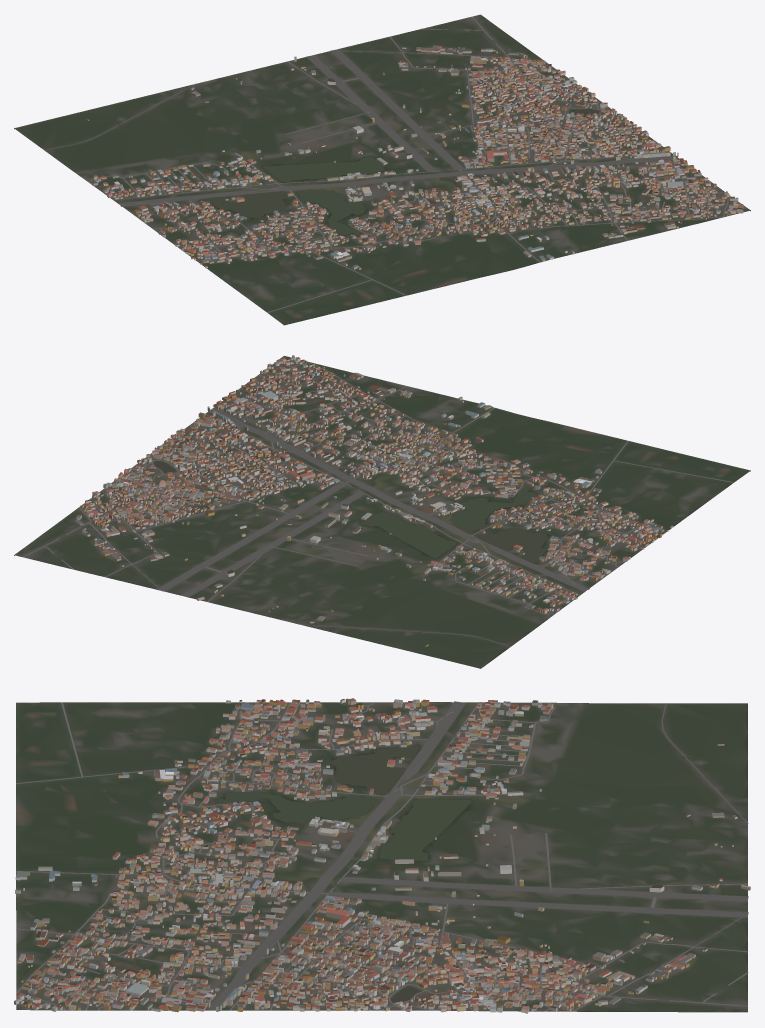
3 views of the same model, one above another, from view 1: azimuth 30°, elevation 25°; view 2: azimuth 150°, elevation 25°; view 3: azimuth 270°, elevation 25° (orthographic). The views are drawn at different scales.
Visible parts, largest first — view 1: ground, buildings, roads, water; view 2: ground, buildings, roads, water; view 3: ground, buildings, roads, water.
Part boxes in pixels (left/top/right/bottom): ground: left=14, top=14, right=750, bottom=325; buildings: left=86, top=45, right=743, bottom=269; roads: left=44, top=16, right=745, bottom=312; water: left=202, top=108, right=599, bottom=234; ground: left=14, top=356, right=750, bottom=668; buildings: left=74, top=355, right=673, bottom=646; roads: left=22, top=359, right=733, bottom=646; water: left=153, top=461, right=547, bottom=562; ground: left=16, top=702, right=747, bottom=1012; buildings: left=14, top=698, right=750, bottom=1013; roads: left=16, top=701, right=748, bottom=1011; water: left=217, top=746, right=471, bottom=1002.
Size of the model in its own units: 1413 by 20.06 by 1412.
